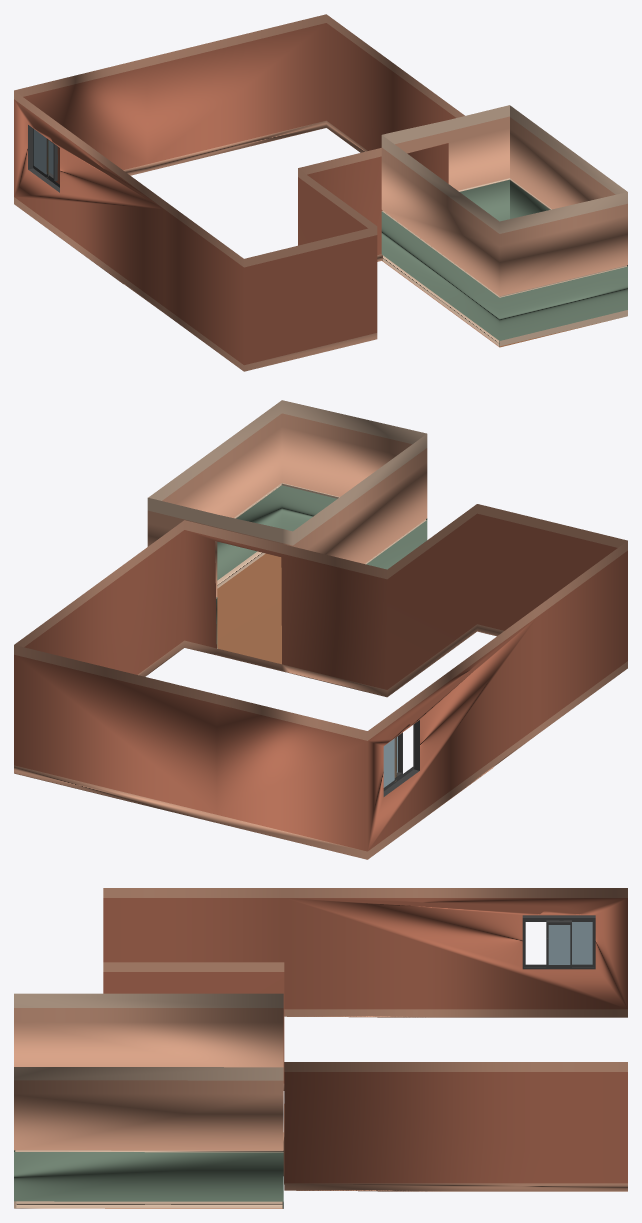
File: replacewindow.glb
3 renders of one model, top to bottom at view 1: azimuth 30°, elevation 25°; view 2: azimuth 150°, elevation 25°; view 3: azimuth 270°, elevation 25°, orthographic. The views are drawn at different scales.
Visible parts, largest first — view 1: Walls.002; view 2: Walls.002; view 3: Walls.002, Cube.001.
Part boxes in pixels (x1=…): Walls.002: x1=14, y1=14, x2=627, y2=371; Walls.002: x1=14, y1=400, x2=627, y2=859; Walls.002: x1=14, y1=888, x2=627, y2=1208; Cube.001: x1=546, y1=920, x2=571, y2=967.
Size of the model in its own units: 6.95 by 2.44 by 9.37.
Materials: 1 (1 with a texture image).
